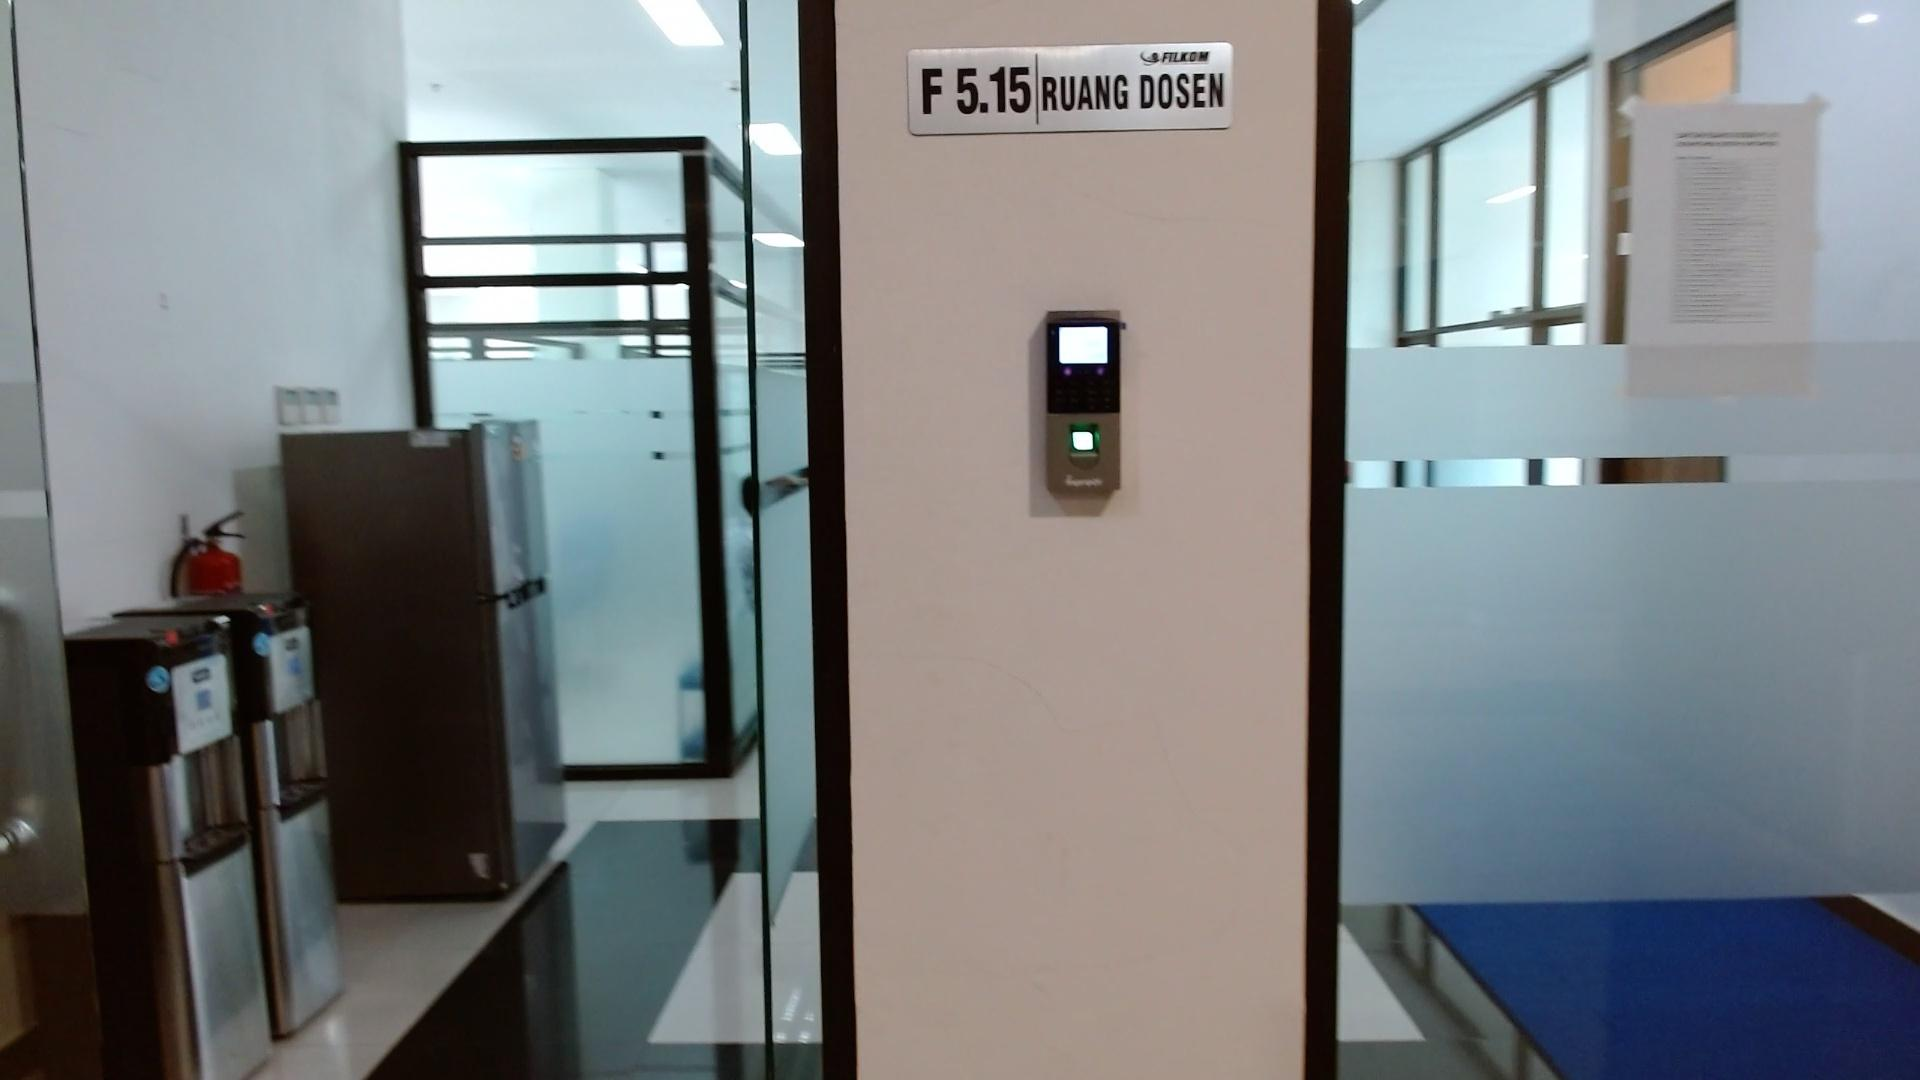plate: (907, 40, 1236, 137)
